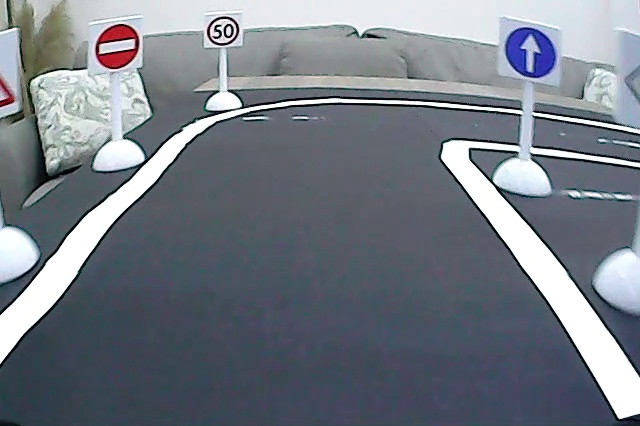do not enter: (95, 20, 142, 72)
speed limit 50: (205, 13, 242, 47)
